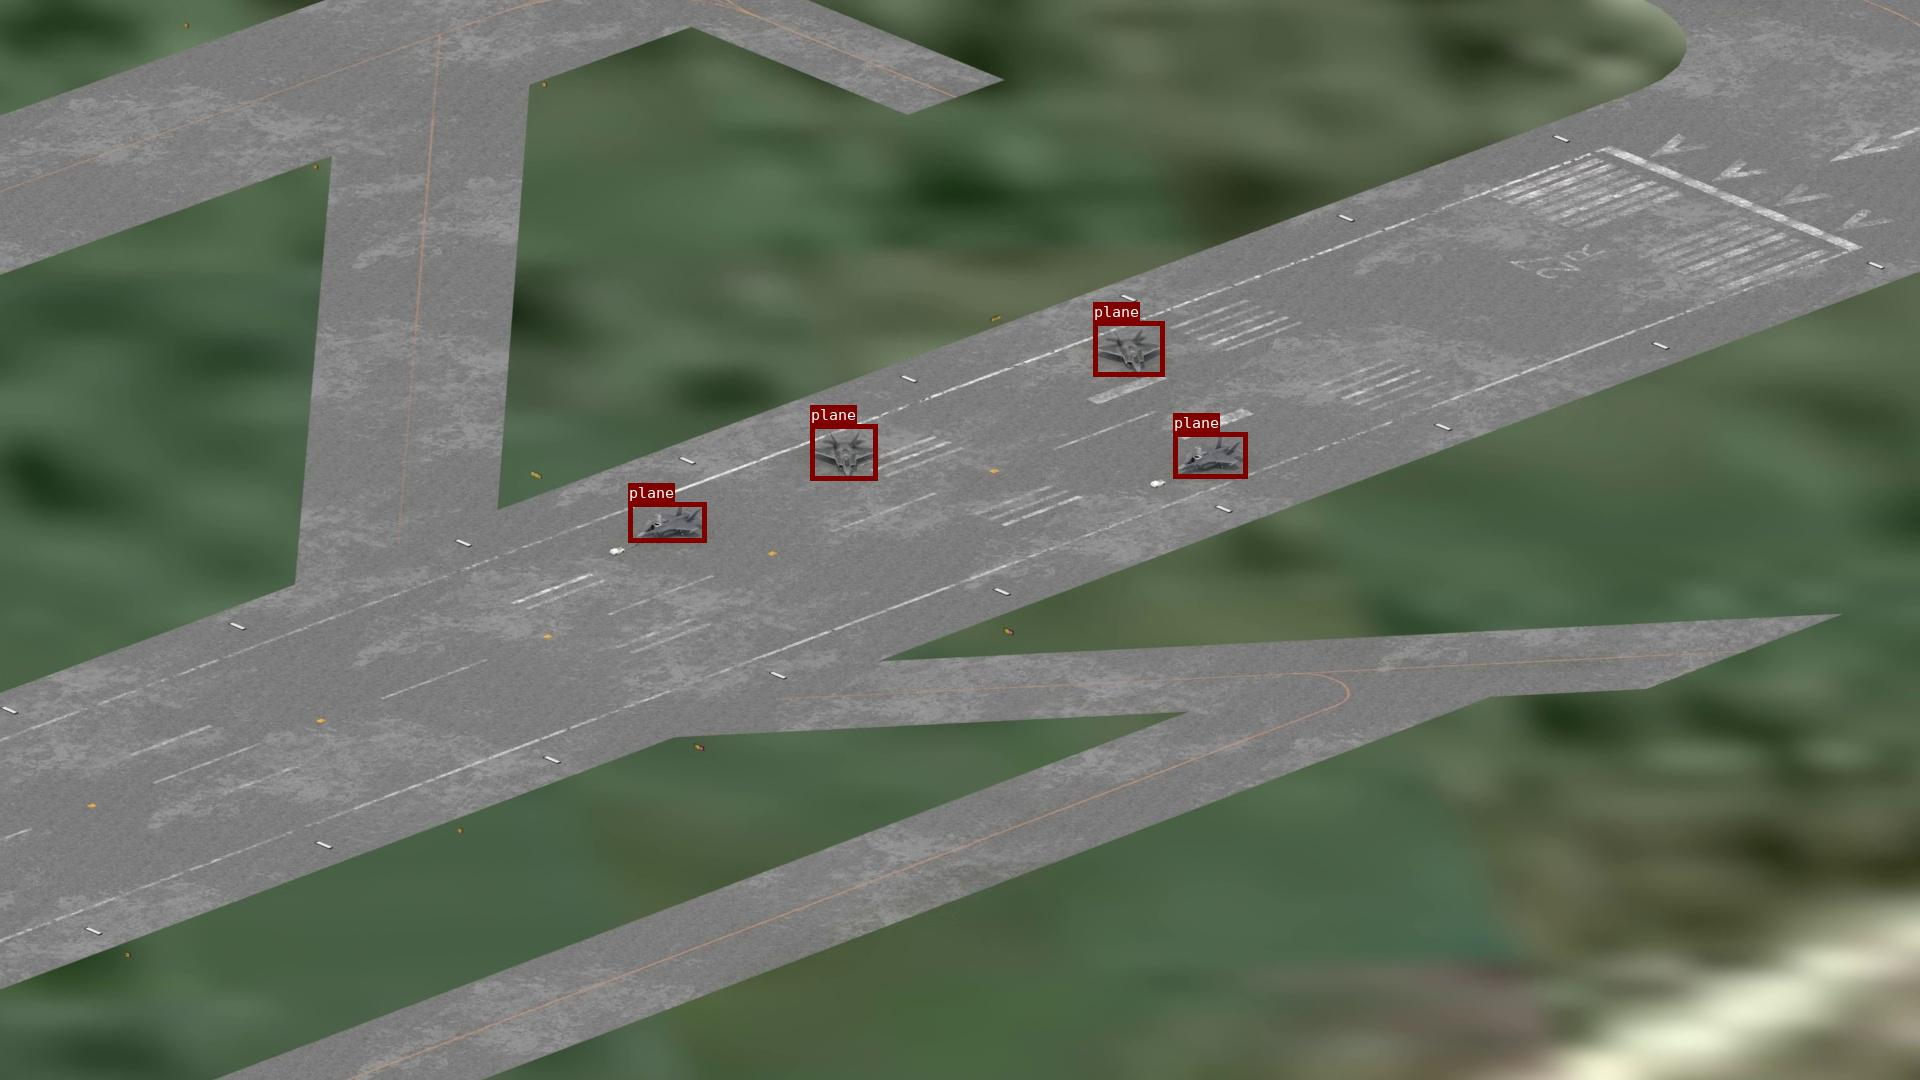plane: (1093, 320, 1164, 376), (810, 425, 877, 480), (1174, 433, 1247, 477), (628, 502, 705, 542)
